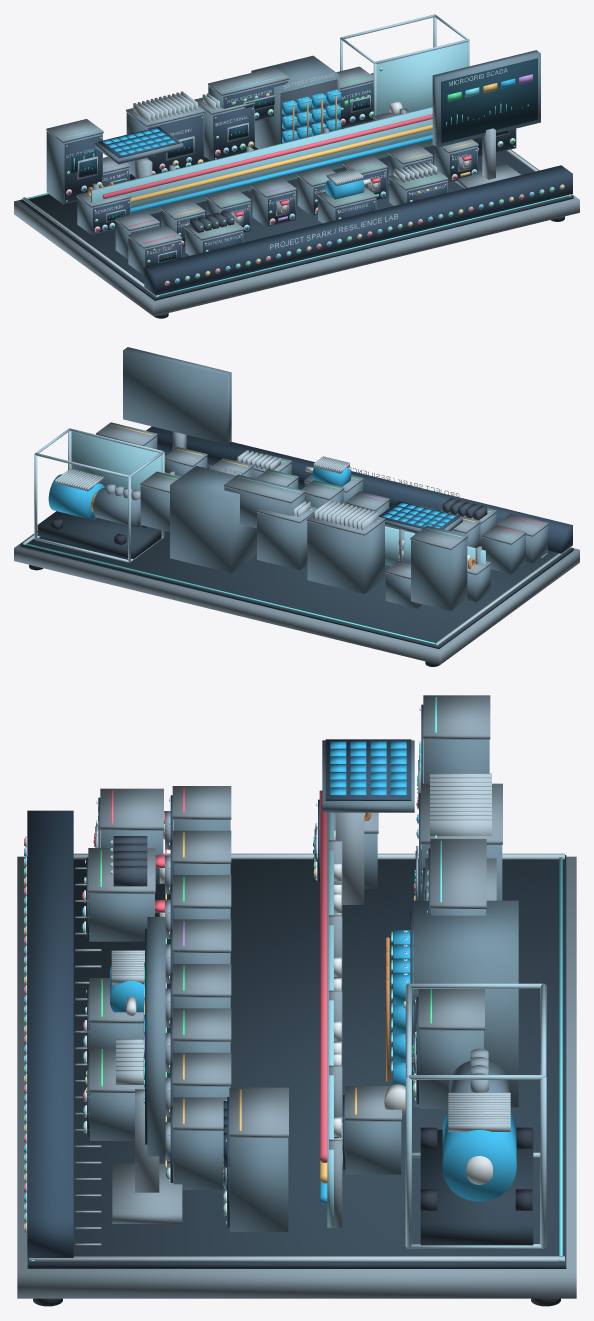
File: Level60_Complete_ArtKit_Showcase.fbx
The picture shows the model from 3 angles, top to bottom: view 1: azimuth 30°, elevation 25°; view 2: azimuth 150°, elevation 25°; view 3: azimuth 270°, elevation 25°; orthographic projection. The views are drawn at different scales.
Parts seen in each view (by area): view 1: Model::L60_IndustrialResilienceBase__FrontTerminalPanel, Model::L60_IndustrialResilienceBase__MonolithicTitaniumBed, Model::L60_ThreePhaseDistributionBus__ThreePhaseBusProtectiv, Model::L60_IndustrialResilienceBase__DeckCarbonLaminate, Model::L60_HolographicSCADAMonitor__SCADAInteractiveGlass, Model::L60_TransparentSafetyEnclosure__SafetyDoorPolycarbona, Model::L60_BatteryStorageSystem__BatteryRackFrame, Model::L60_BatteryStorageSystem, Model::L60_HolographicSCADAMonitor__SCADAMonitorFrame, Model::L60_BidirectionalPowerConverter__BidirectionalConvert (×2), Model::L60_ThreePhaseDistributionBus__ACPowerBus0, Model::L60_ThreePhaseDistributionBus__ACPowerBus1 (+48 smaller); view 2: Model::L60_IndustrialResilienceBase__DeckCarbonLaminate, Model::L60_IndustrialResilienceBase__MonolithicTitaniumBed, Model::L60_HolographicSCADAMonitor__SCADAMonitorFrame, Model::L60_BatteryStorageSystem__BatteryRackFrame, Model::L60_IndustrialResilienceBase__FrontTerminalPanel, Model::L60_GridFormingInverter__GridFormingInverterDiecastHo, Model::L60_MainGridInterface__UtilityInterfaceDiecastHousing, Model::L60_TransparentSafetyEnclosure__SafetyDoorPolycarbona, Model::L60_BackupGenerator__GeneratorAntiVibrationSkid, Model::L60_BidirectionalPowerConverter__BidirectionalConvert, Model::L60_BackupGenerator__GeneratorAlternatorBody, Model::L60_BackupGenerator__PrimeMoverBlock (+24 smaller); view 3: Model::L60_IndustrialResilienceBase__DeckCarbonLaminate, Model::L60_IndustrialResilienceBase__MonolithicTitaniumBed, Model::L60_IndustrialResilienceBase__FrontTerminalPanel, Model::L60_BatteryStorageSystem__BatteryRackFrame, Model::L60_BackupGenerator__GeneratorAntiVibrationSkid, Model::L60_ProtectionRelayBank__ProtectionRelayBankDiecastHo, Model::L60_HolographicSCADAMonitor__SCADAMonitorFrame, Model::L60_BackupGenerator__GeneratorAlternatorBody, Model::L60_ResilienceMasterController__ResilienceMasterUpper, Model::L60_SolarPVSimulator, Model::L60_HolographicSCADAMonitor__SCADAFoot, Model::L60_BatteryManagementUnit__BMSPanelDiecastHousing (+43 smaller).
Part boxes in pixels (box(x1,y1,x2,y2)): Model::L60_IndustrialResilienceBase__FrontTerminalPanel: box(144, 165, 572, 295); Model::L60_IndustrialResilienceBase__MonolithicTitaniumBed: box(14, 149, 579, 316); Model::L60_ThreePhaseDistributionBus__ThreePhaseBusProtectiv: box(91, 106, 433, 214); Model::L60_IndustrialResilienceBase__DeckCarbonLaminate: box(20, 127, 573, 300); Model::L60_HolographicSCADAMonitor__SCADAInteractiveGlass: box(441, 58, 537, 143); Model::L60_TransparentSafetyEnclosure__SafetyDoorPolycarbona: box(376, 42, 467, 115); Model::L60_BatteryStorageSystem__BatteryRackFrame: box(251, 55, 339, 148); Model::L60_BatteryStorageSystem: box(282, 89, 340, 142); Model::L60_HolographicSCADAMonitor__SCADAMonitorFrame: box(432, 50, 540, 147); Model::L60_BidirectionalPowerConverter__BidirectionalConvert (×2): box(198, 105, 254, 160); Model::L60_ThreePhaseDistributionBus__ACPowerBus0: box(102, 114, 432, 199); Model::L60_ThreePhaseDistributionBus__ACPowerBus1: box(130, 124, 432, 202); Model::L60_IndustrialResilienceBase__DeckCarbonLaminate: box(20, 467, 573, 648); Model::L60_IndustrialResilienceBase__MonolithicTitaniumBed: box(14, 531, 579, 664); Model::L60_HolographicSCADAMonitor__SCADAMonitorFrame: box(123, 347, 231, 444); Model::L60_BatteryStorageSystem__BatteryRackFrame: box(170, 466, 256, 573); Model::L60_IndustrialResilienceBase__FrontTerminalPanel: box(146, 426, 572, 553); Model::L60_GridFormingInverter__GridFormingInverterDiecastHo: box(307, 521, 384, 593); Model::L60_MainGridInterface__UtilityInterfaceDiecastHousing: box(411, 538, 467, 610); Model::L60_TransparentSafetyEnclosure__SafetyDoorPolycarbona: box(71, 431, 161, 490); Model::L60_BackupGenerator__GeneratorAntiVibrationSkid: box(37, 511, 161, 559); Model::L60_BidirectionalPowerConverter__BidirectionalConvert: box(257, 513, 313, 570); Model::L60_BackupGenerator__GeneratorAlternatorBody: box(48, 474, 104, 519); Model::L60_BackupGenerator__PrimeMoverBlock: box(93, 488, 142, 527); Model::L60_IndustrialResilienceBase__DeckCarbonLaminate: box(27, 855, 566, 1268); Model::L60_IndustrialResilienceBase__MonolithicTitaniumBed: box(17, 856, 576, 1298); Model::L60_IndustrialResilienceBase__FrontTerminalPanel: box(27, 810, 73, 1257); Model::L60_BatteryStorageSystem__BatteryRackFrame: box(413, 900, 518, 1107); Model::L60_BackupGenerator__GeneratorAntiVibrationSkid: box(420, 1129, 533, 1245); Model::L60_ProtectionRelayBank__ProtectionRelayBankDiecastHo: box(230, 1137, 288, 1231); Model::L60_HolographicSCADAMonitor__SCADAMonitorFrame: box(147, 917, 165, 1156); Model::L60_BackupGenerator__GeneratorAlternatorBody: box(442, 1113, 516, 1201); Model::L60_ResilienceMasterController__ResilienceMasterUpper: box(430, 839, 486, 908); Model::L60_SolarPVSimulator: box(330, 741, 406, 795); Model::L60_HolographicSCADAMonitor__SCADAFoot: box(112, 1163, 182, 1223); Model::L60_BatteryManagementUnit__BMSPanelDiecastHousing: box(419, 1030, 483, 1108).
Bounding box in the file's own units: 1170 × 381 × 665.
